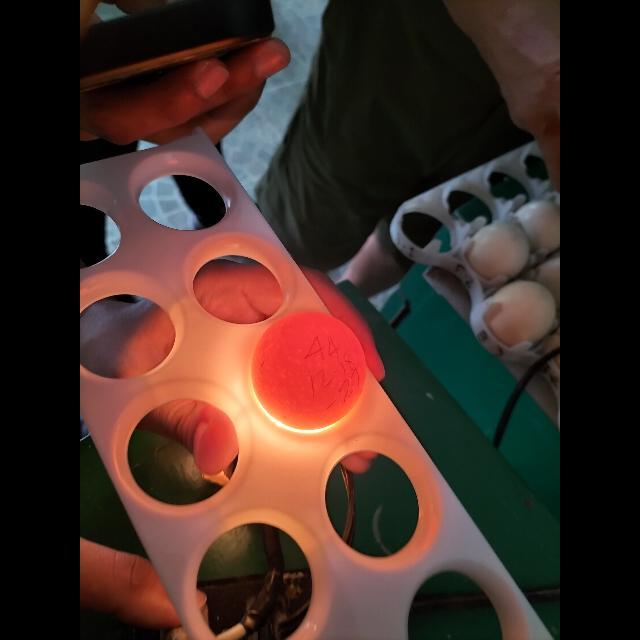Infertile: (246, 314, 372, 432)
